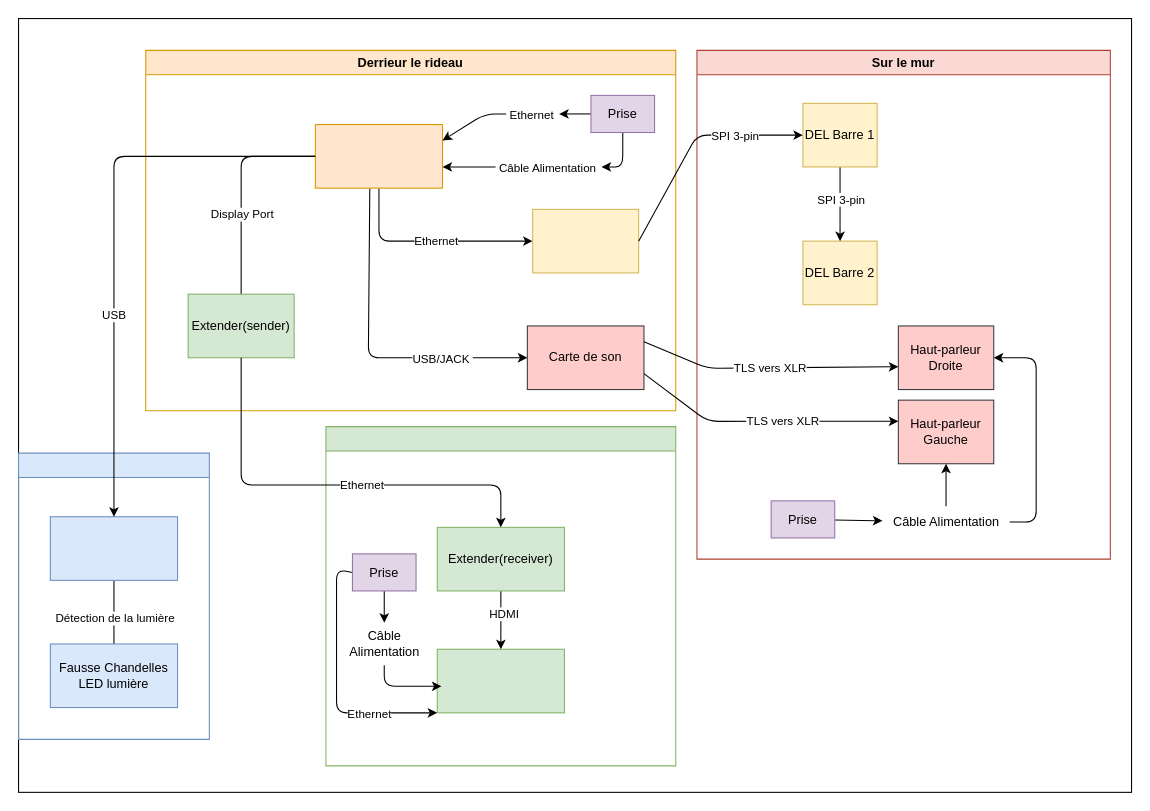
Image size: 1150x811. Some labels were removed from this diagram. The shapes that lost their labels are listed below. From the top down, each one's box as (x1, y1, x2, y2) in pixels, then its label:
(314, 123, 443, 188): Ordinateur
(532, 208, 639, 273): BC-204
(49, 516, 178, 580): Kinect
(17, 452, 209, 739): Sur la table devant rideau
(325, 426, 676, 766): Plafond
(436, 648, 564, 713): Projecteur Epson
